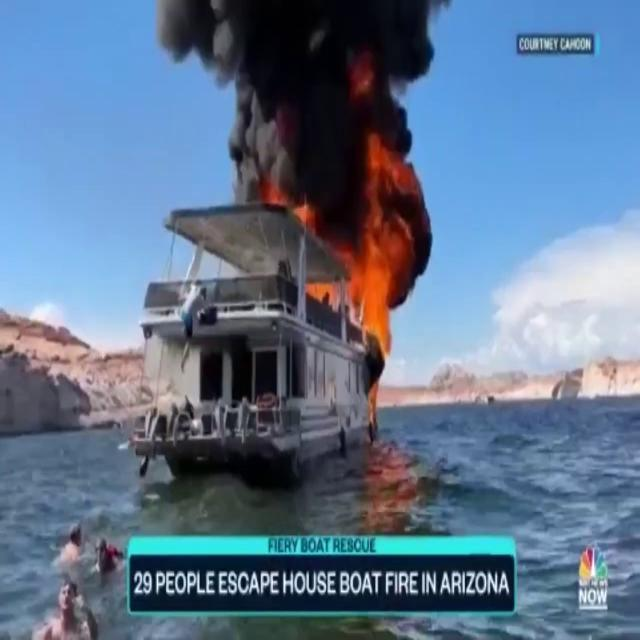Fire: (338, 128, 418, 378)
Smoke: (154, 0, 442, 212)
